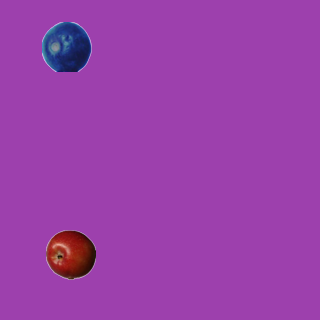Apple Braeburn: (45, 229, 95, 279)
Huckleberry: (41, 21, 91, 71)
